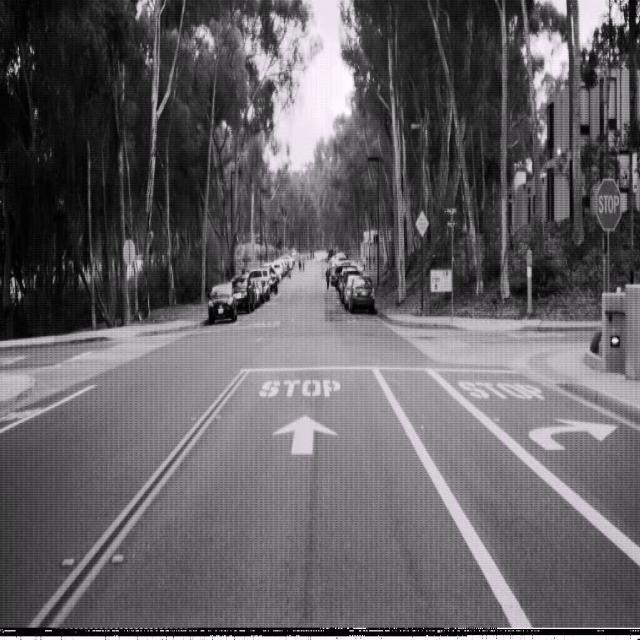stop: (596, 177, 622, 230)
